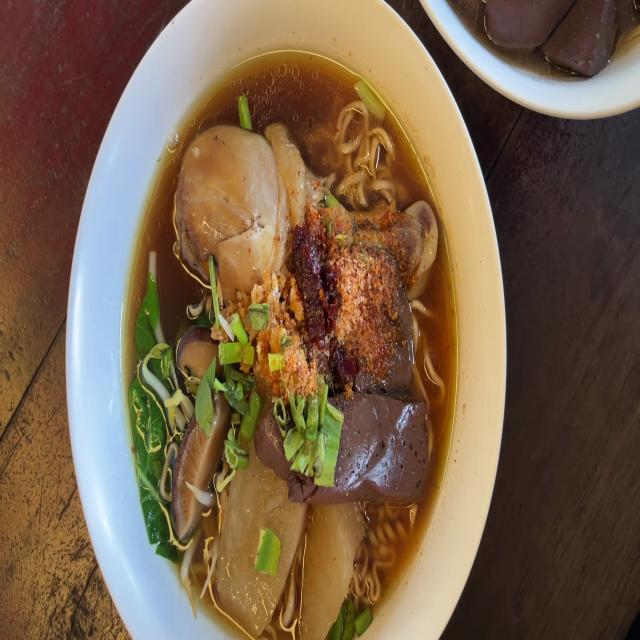noodle: (128, 50, 455, 640)
